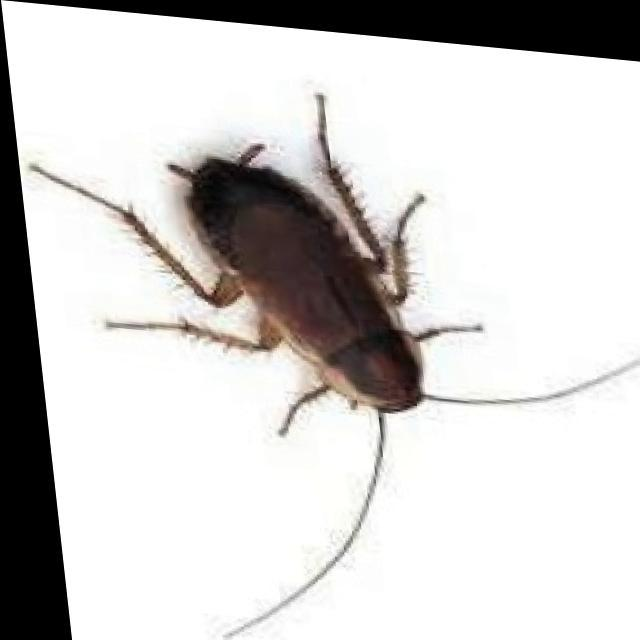cockroach: (165, 141, 431, 418)
